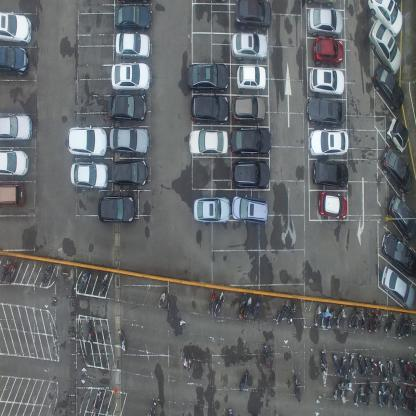car: (368, 19, 402, 75), (380, 144, 413, 196), (380, 231, 416, 277), (380, 266, 416, 311), (371, 65, 404, 112), (368, 0, 402, 39), (186, 61, 228, 92), (388, 195, 416, 241), (234, 0, 272, 33), (231, 31, 268, 64), (307, 96, 345, 128), (67, 126, 107, 156), (308, 129, 349, 158), (230, 126, 272, 154), (97, 194, 136, 224), (111, 63, 151, 92), (107, 94, 147, 123), (110, 126, 150, 155), (232, 157, 270, 187), (306, 7, 342, 38), (312, 158, 349, 188), (193, 195, 231, 224), (70, 161, 108, 190), (189, 129, 229, 156), (309, 66, 345, 96), (114, 3, 151, 32), (0, 11, 32, 44), (190, 95, 229, 122), (232, 195, 268, 224), (111, 159, 148, 187), (0, 112, 33, 143), (232, 94, 266, 124), (115, 32, 150, 60), (0, 45, 30, 76), (312, 38, 344, 66), (318, 190, 348, 219), (387, 116, 409, 154), (236, 64, 266, 91), (0, 148, 28, 176), (0, 180, 26, 209), (304, 0, 336, 8)
